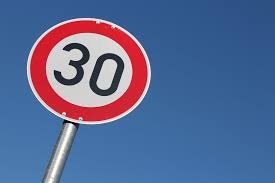Speed_limit_30km: (26, 17, 152, 122)
